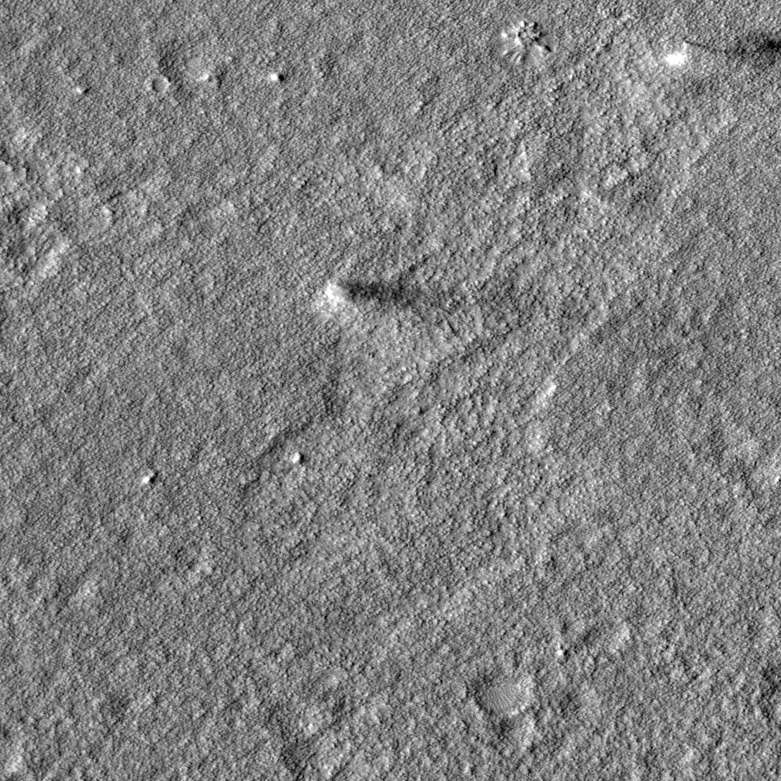dust_devil: (660, 33, 781, 70), (320, 277, 422, 309)
